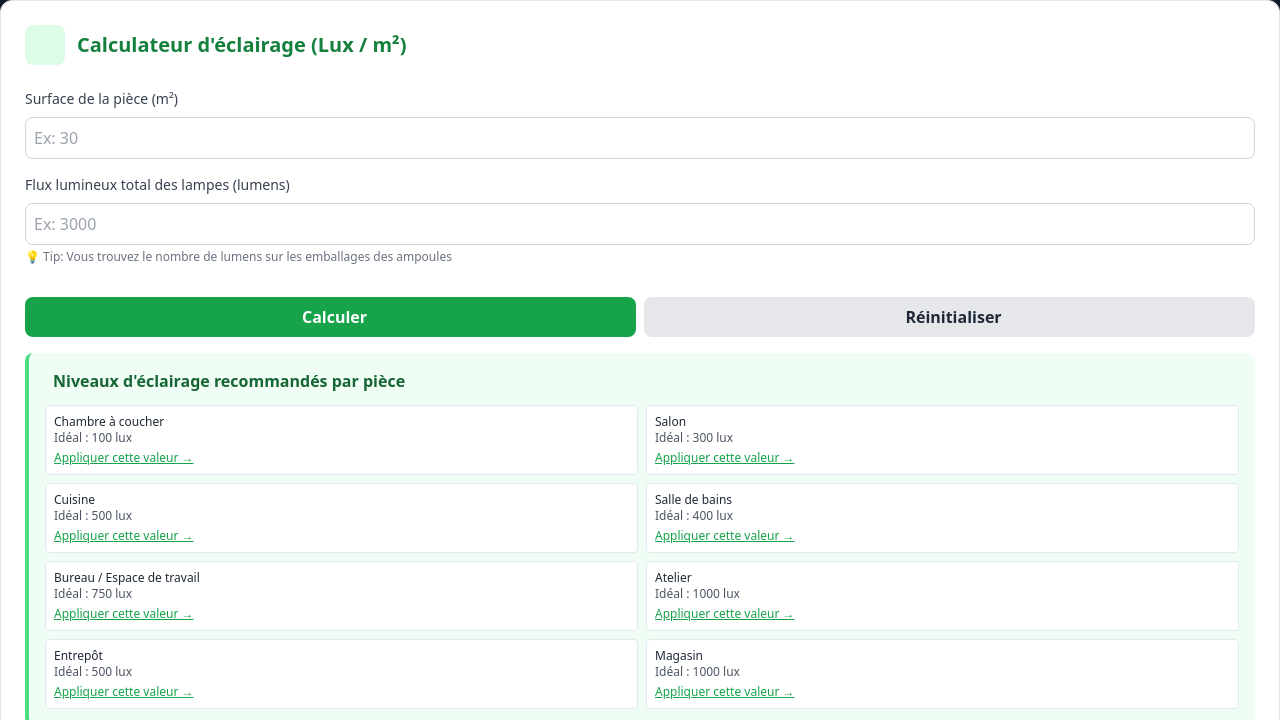
Test: LightingCalculator › shows "excellent" adequacy for high lux levels
Type "10" into the number field with placeholder "Ex: 30" at (640, 138), box [25,117,1255,159]
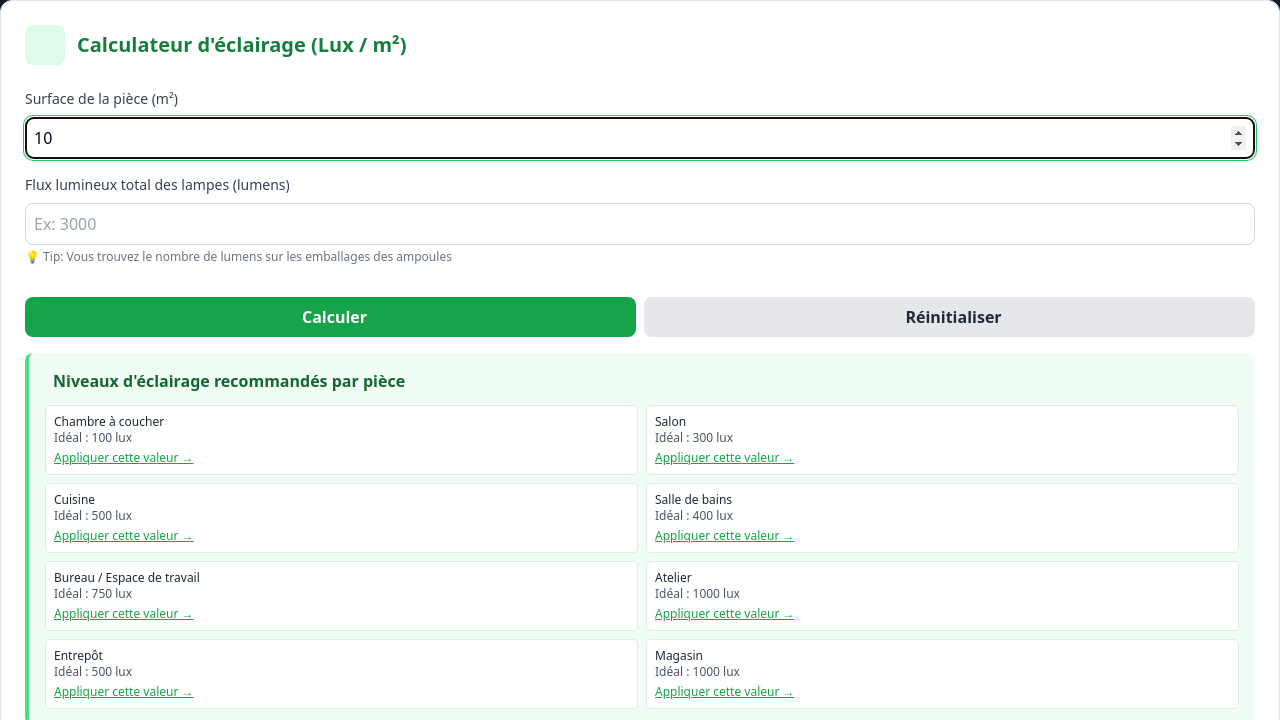
Type "6000" into the number field with placeholder "Ex: 3000" at (640, 224), box [25,203,1255,245]
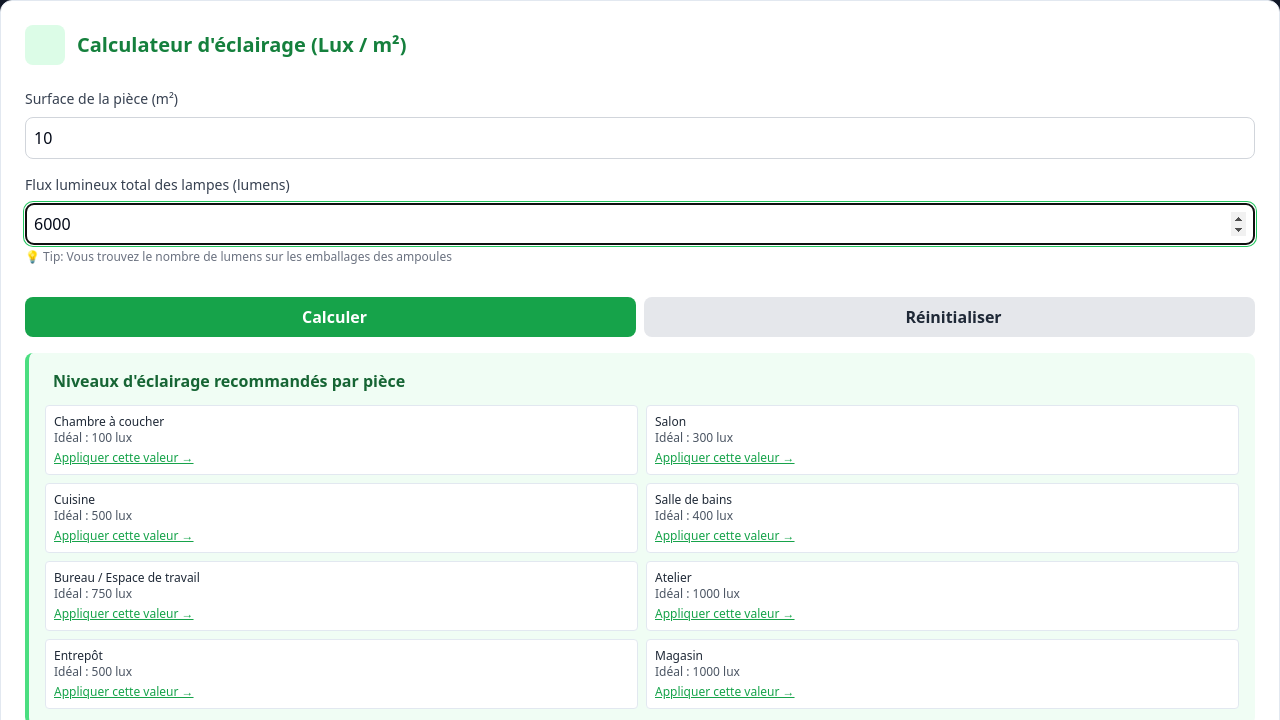
Click the button with aria-label "Calculer l'éclairement en lux" at (330, 317), box [25,297,636,337]
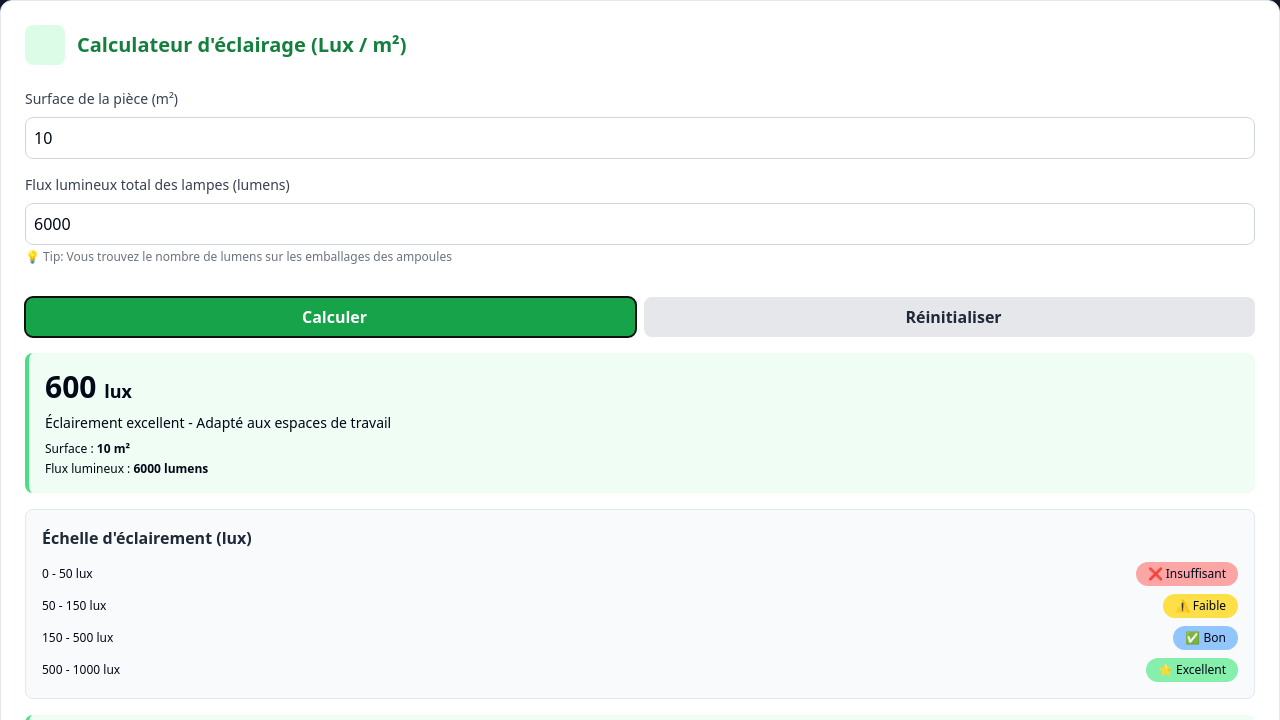
Now the text "⭐ Excellent" is shown, box [1146,658,1238,682]
